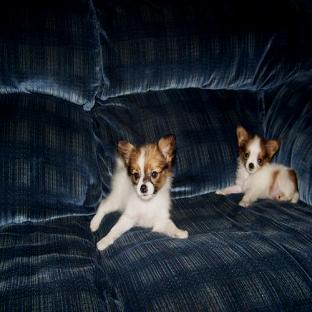Animal: (90, 135, 188, 250), (217, 126, 299, 206)
